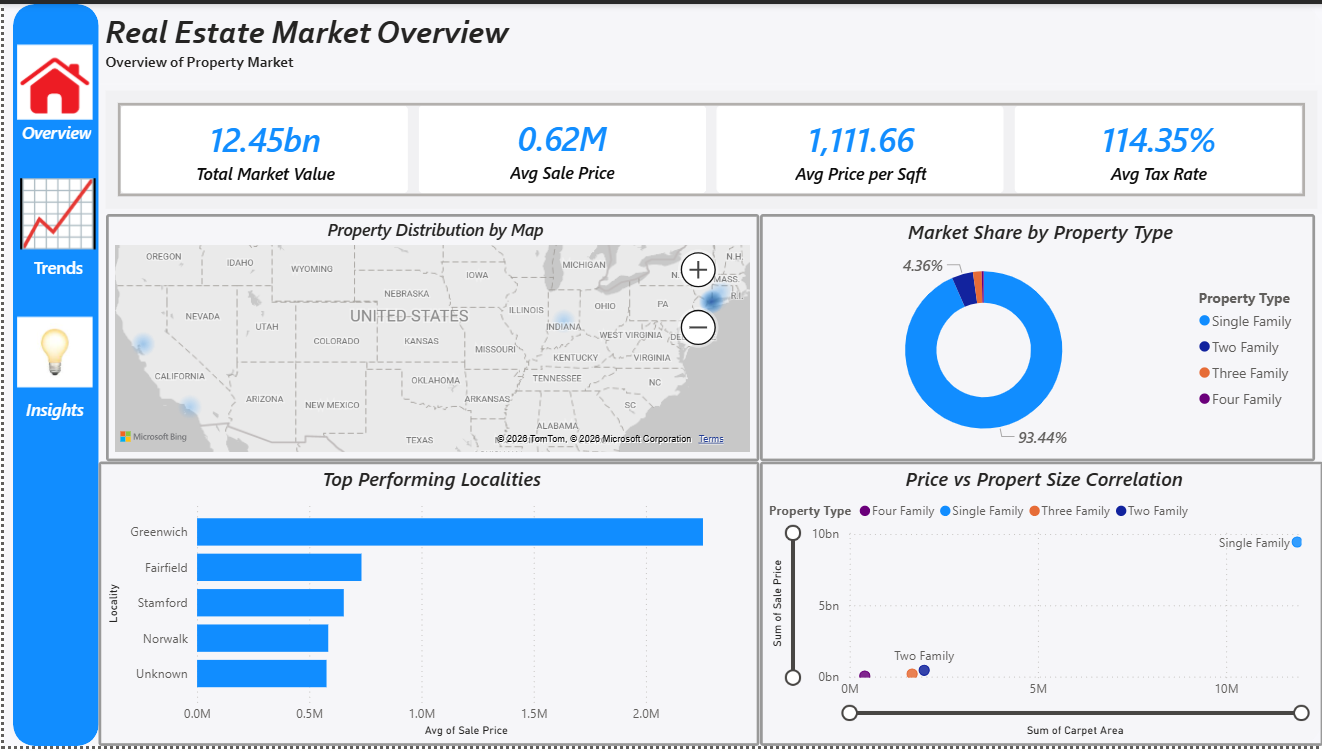

The dashboard page shown, as its layout file describes it:
{"tool":"powerbi","page":{"name":"Page 1","canvas":[1280,720],"ordinal":0},"visuals":[{"type":"shape","box":[1.7,0,1278.8,720.6],"z":0},{"type":"shape","box":[9.4,0,83.2,720],"z":1000},{"type":"actionButton","box":[9.4,15.1,81.3,122.8],"z":2000},{"type":"actionButton","box":[11.3,138,81.3,130.4],"z":3000},{"type":"actionButton","box":[9.4,268.3,81.3,139.8],"z":4000},{"type":"textbox","box":[92.6,1.9,1179.2,75.6],"z":5000},{"type":"cardVisual","fields":{"Data":["Sum(public cleaned_real_estate_data.Sale Price)","Avg(public cleaned_real_estate_data.Sale Price)","Avg(public cleaned_real_estate_data.Carpet Area)","Avg(public cleaned_real_estate_data.Tax Rate)"]},"box":[88.8,77.5,1183,126.6],"z":6000},{"type":"map","title":"Property Distribution by Map","fields":{"Category":["public cleaned_real_estate_data.Locality"],"Size":["Sum(public cleaned_real_estate_data.Sale Price)"]},"box":[99,203.7,634,239.9],"z":7000},{"type":"clusteredBarChart","title":"Top Performing Localities","fields":{"Category":["public cleaned_real_estate_data.Locality"],"Y":["Avg(public cleaned_real_estate_data.Sale Price)"]},"box":[98.3,444.1,635,275.9],"z":8000},{"type":"donutChart","title":"Market Share by Property Type","fields":{"Category":["public cleaned_real_estate_data.Property Type"],"Y":["Sum(public cleaned_real_estate_data.Sale Price)"]},"box":[733,203.7,538.8,239.9],"z":9000},{"type":"scatterChart","title":"Price vs Propert Size Correlation","fields":{"X":["Sum(public cleaned_real_estate_data.Carpet Area)"],"Y":["Sum(public cleaned_real_estate_data.Sale Price)"],"Series":["public cleaned_real_estate_data.Property Type"]},"box":[733,443.6,546.4,276.1],"z":10000}]}

Visuals, with their boxes in screenshot pixels (x1, y1, x2, y2):
shape: [x1=5, y1=0, x2=1308, y2=734]
shape: [x1=13, y1=0, x2=98, y2=733]
actionButton: [x1=13, y1=15, x2=96, y2=140]
actionButton: [x1=15, y1=141, x2=98, y2=273]
actionButton: [x1=13, y1=273, x2=96, y2=416]
textbox: [x1=98, y1=2, x2=1299, y2=79]
cardVisual - Sum(public cleaned_real_estate_data.Sale Price) x Avg(public cleaned_real_estate_data.Sale Price): [x1=94, y1=79, x2=1299, y2=208]
"Property Distribution by Map" map: [x1=104, y1=207, x2=750, y2=452]
"Top Performing Localities" clusteredBarChart: [x1=104, y1=452, x2=750, y2=733]
"Market Share by Property Type" donutChart: [x1=750, y1=207, x2=1299, y2=452]
"Price vs Propert Size Correlation" scatterChart: [x1=750, y1=452, x2=1307, y2=733]
